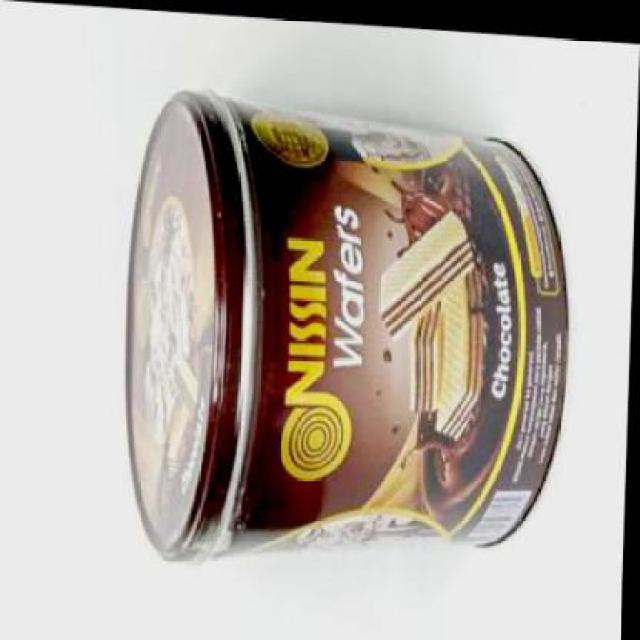Metal: (114, 80, 573, 567)
